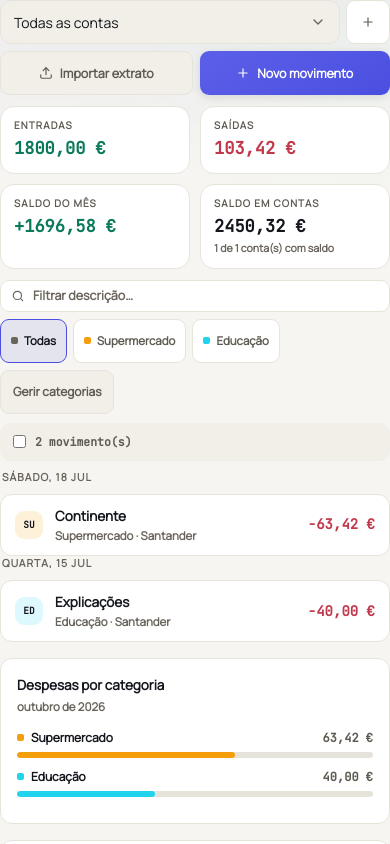
ExpensesPage — categorias › o seletor de categoria de um movimento inclui as personalizadas
The image size is (390, 844).
Step 1. Click the button "Novo movimento" → point(295, 73), box [200,51,389,95]
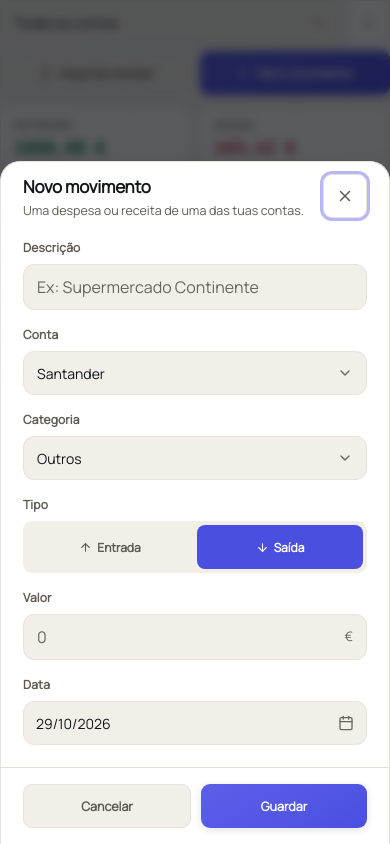
abrir o dropdown de categoria (o campo com o label "Categoria")
Step 2. Click the button with class "dd-trigger" showing "Outros" → point(59, 458), box [23,436,367,480]
(page scrolled)
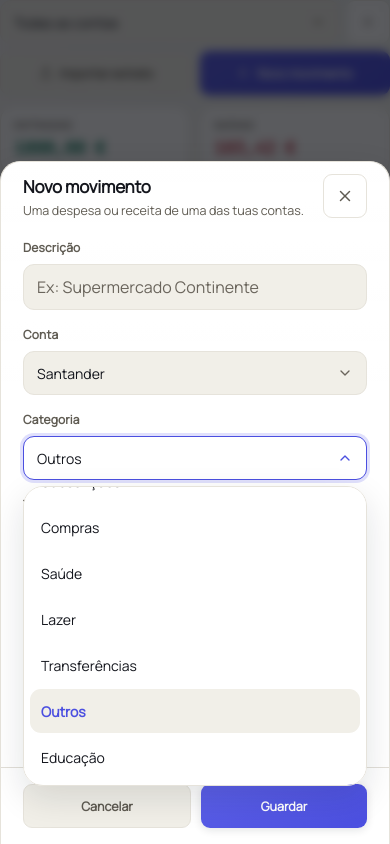
Check: the option "Educação" is shown, box [30,735,360,779]
